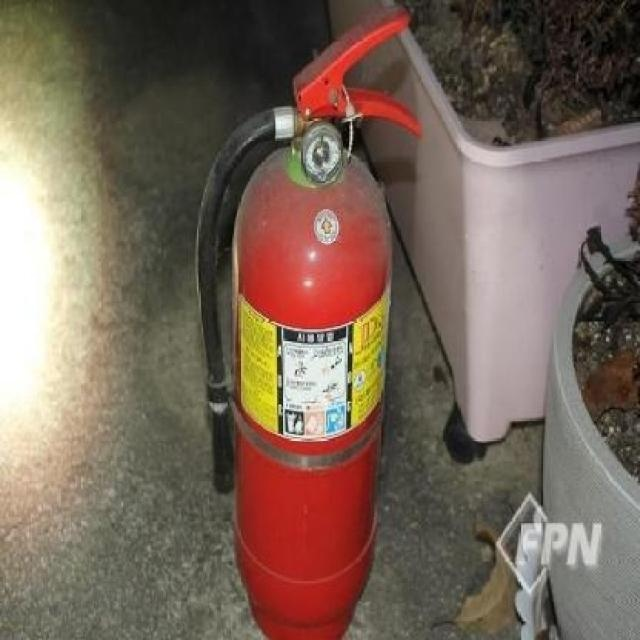fire extinguisher: (196, 3, 422, 640)
